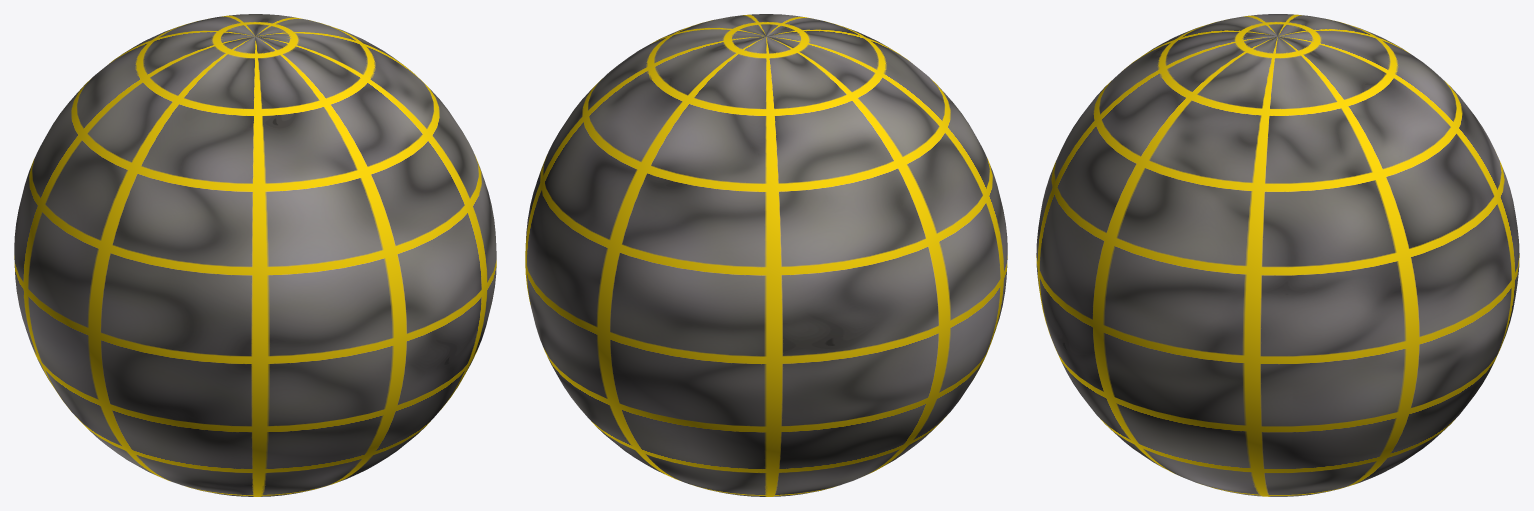
The model's file is color_texture_sphere.gltf.
The picture shows the model from 3 angles, left to right: view 1: azimuth 30°, elevation 25°; view 2: azimuth 150°, elevation 25°; view 3: azimuth 270°, elevation 25°; orthographic projection.
Visible parts, largest first — view 1: Sphere; view 2: Sphere; view 3: Sphere.
Part boxes in pixels (<box>): Sphere: <box>14,14,496,496</box>; Sphere: <box>525,14,1007,496</box>; Sphere: <box>1036,14,1519,496</box>.
Bounding box in the file's own units: 2 × 2 × 2.
Materials: 1 (1 with a texture image).
